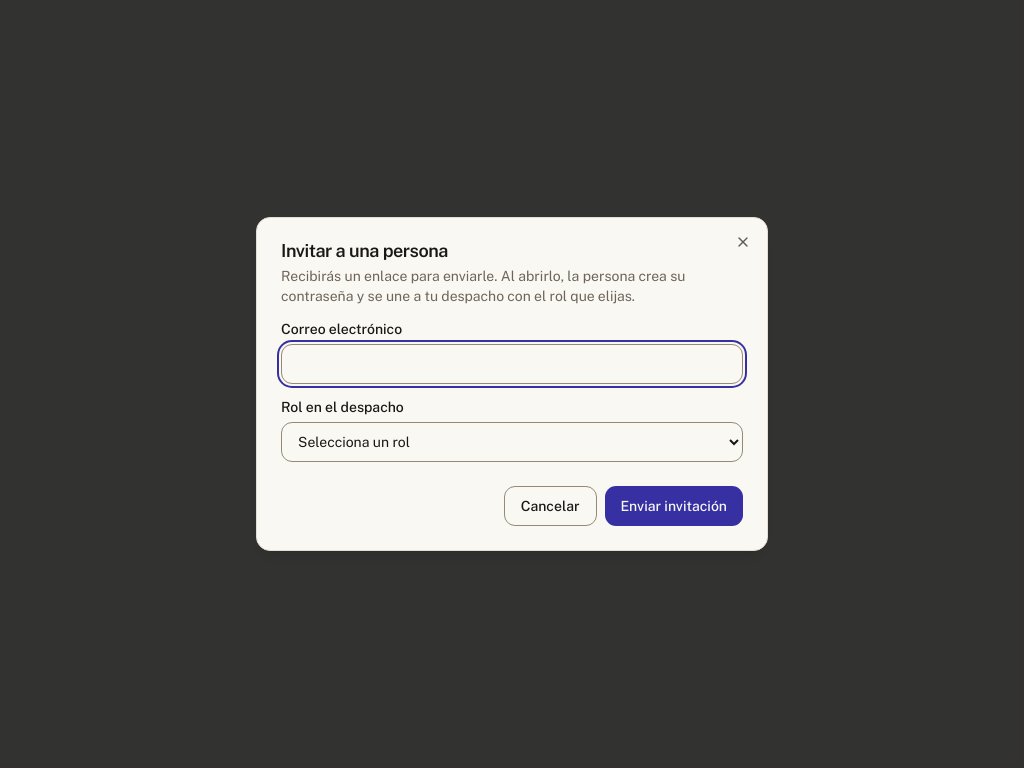
it: InviteUserDialog › validates before anything is sent
Step 1. Click the button "Enviar invitación" → click(674, 506), box [604,486,743,526]
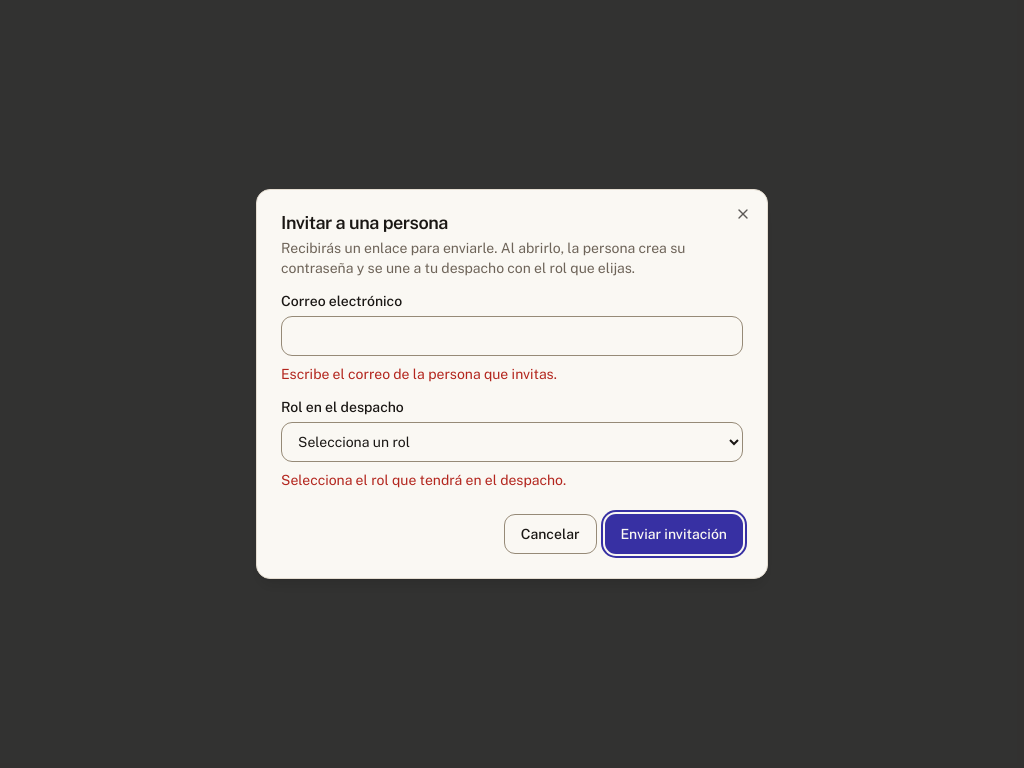
Expected: the message "Escribe el correo de la persona que invitas." is shown, [281,366,557,382]
